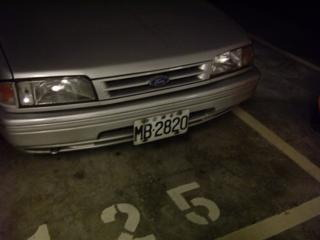plate: (133, 111, 189, 143)
